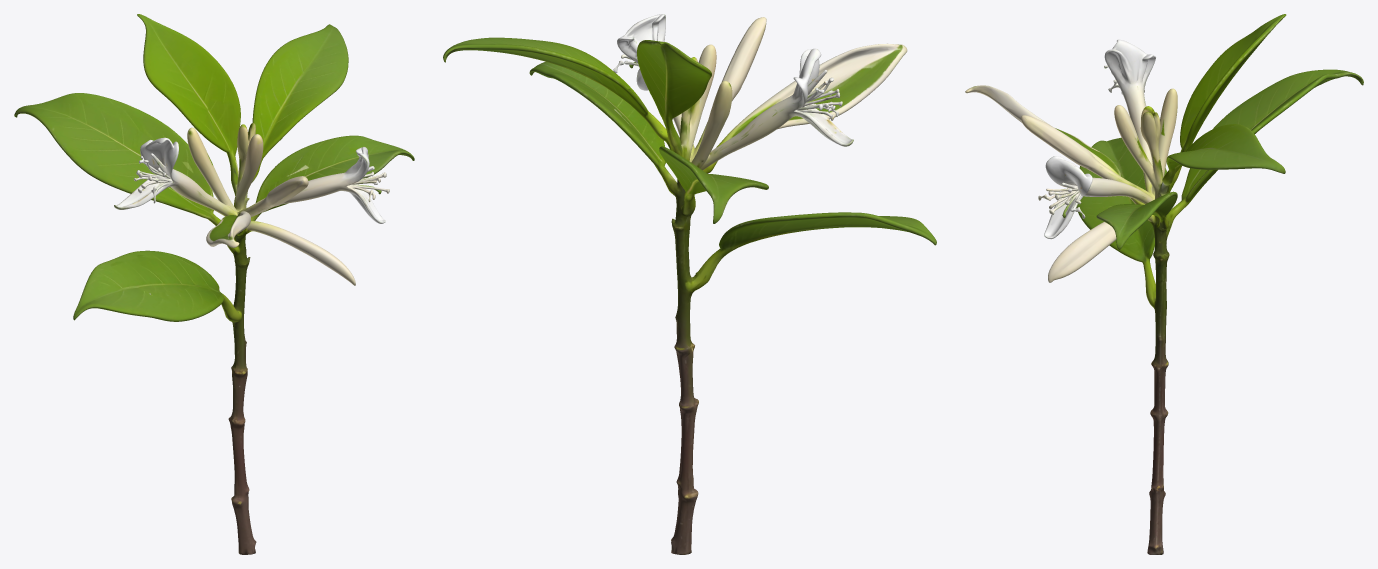
File: bailanhua.glb
3 renders of one model, left to right at view 1: azimuth 30°, elevation 25°; view 2: azimuth 150°, elevation 25°; view 3: azimuth 270°, elevation 25°, orthographic. The views are drawn at different scales.
Parts seen in each view (by area): view 1: node_0; view 2: node_0; view 3: node_0.
Part boxes in pixels (left/top/right/bottom): node_0: left=14, top=14, right=414, bottom=554; node_0: left=443, top=14, right=936, bottom=554; node_0: left=965, top=14, right=1363, bottom=554.
Bounding box in the file's own units: 0.7716 × 1.06 × 0.7475.
1 material, 1 textured.
